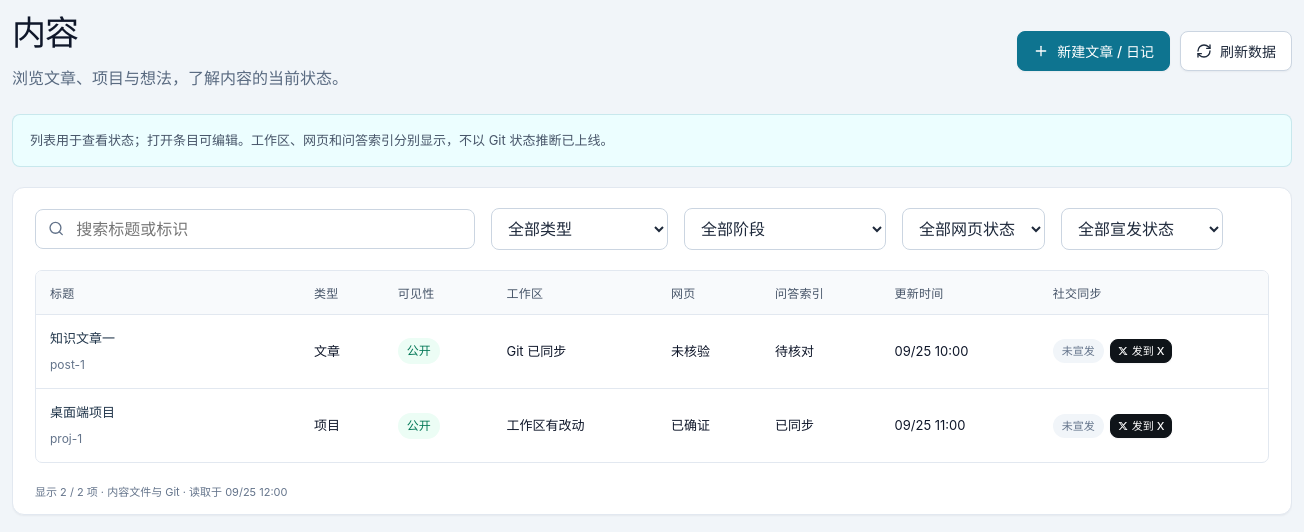
Test: ContentListPage (C22 类型筛选与小店内容边界) › 筛选项目类型时展示项目管理受控声明
Select "项目 (project)" in the dropdown named "内容类型" at (580, 229), box [491,208,668,250]
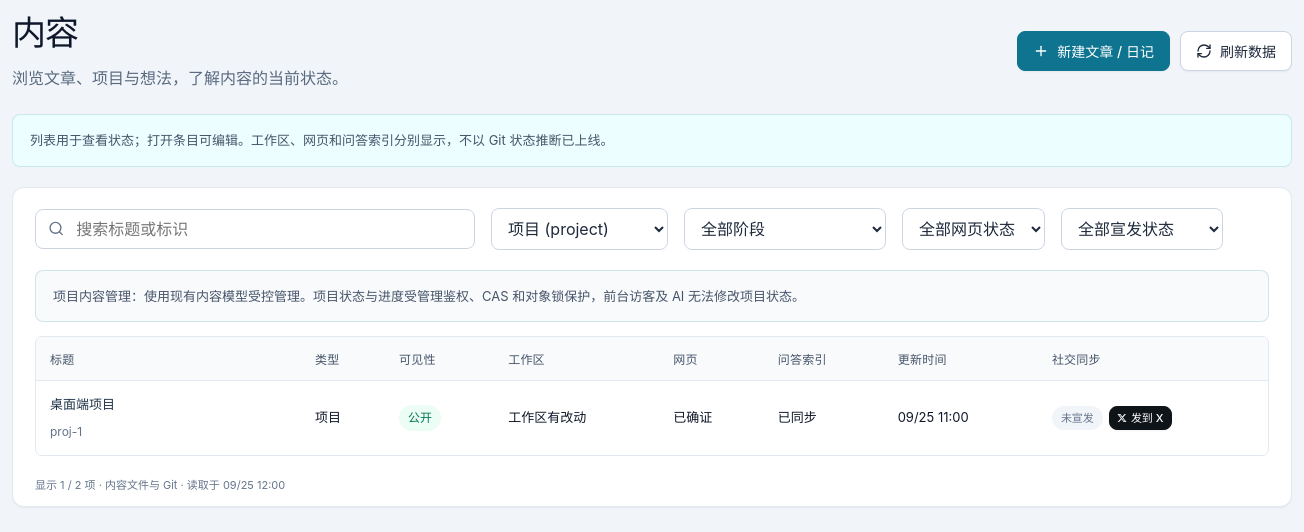
Check: the link "桌面端项目" is shown, box [50,396,115,412]
Check: the text "项目内容管理" is shown, box [53,288,131,304]
Check: the text "前台访客及 AI 无法修改项目状态" is shown, box [131,288,805,304]
